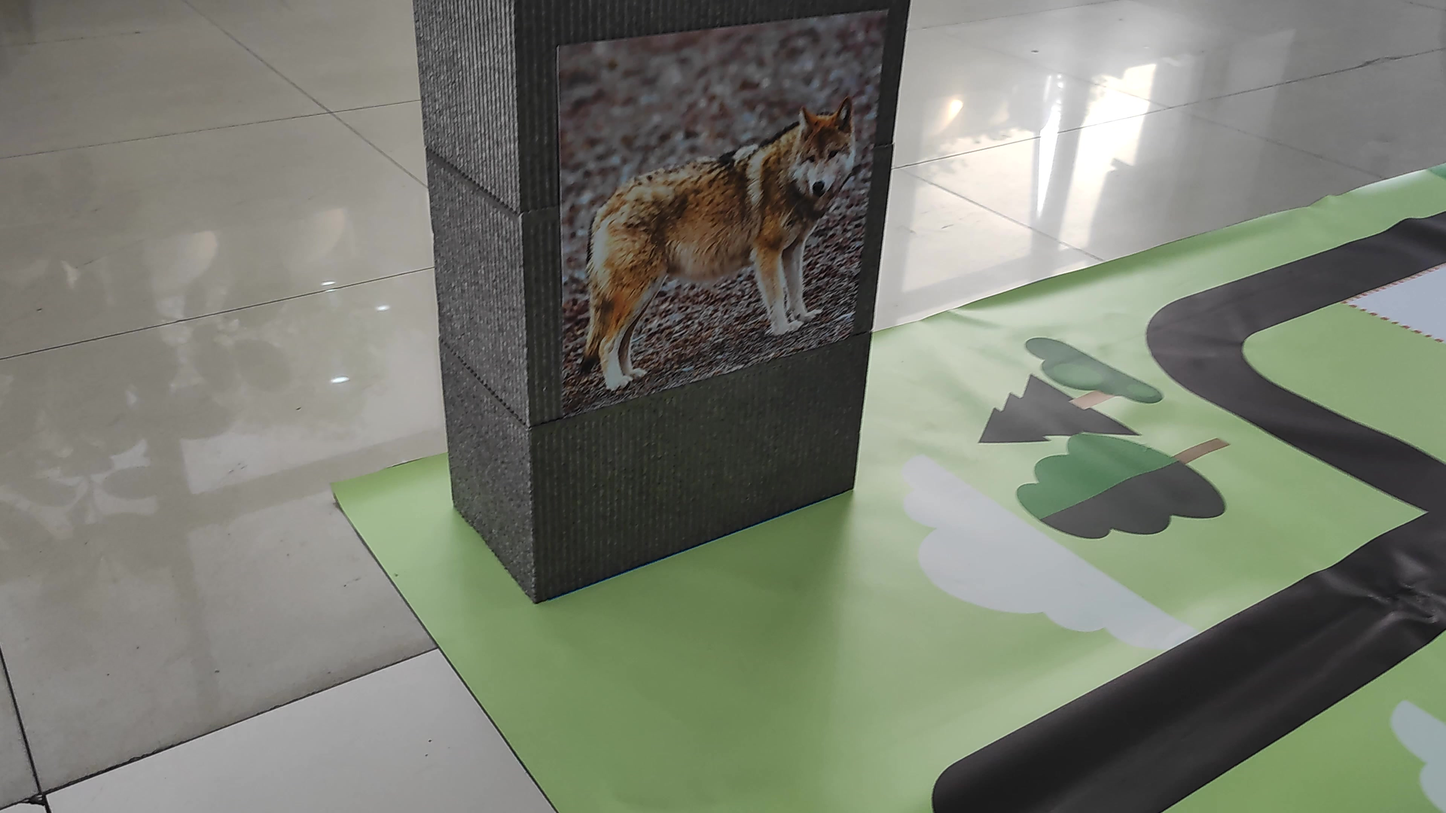wolf: (552, 80, 867, 426)
